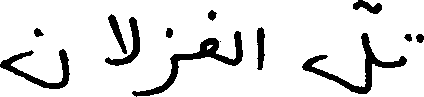ا: (257, 24, 263, 70)
ت: (396, 32, 422, 67)
ز: (135, 27, 177, 95)
ف: (200, 8, 218, 61)
ل: (304, 26, 371, 94), (234, 28, 242, 66)
لا: (103, 12, 137, 68)
ن: (0, 25, 67, 89)
